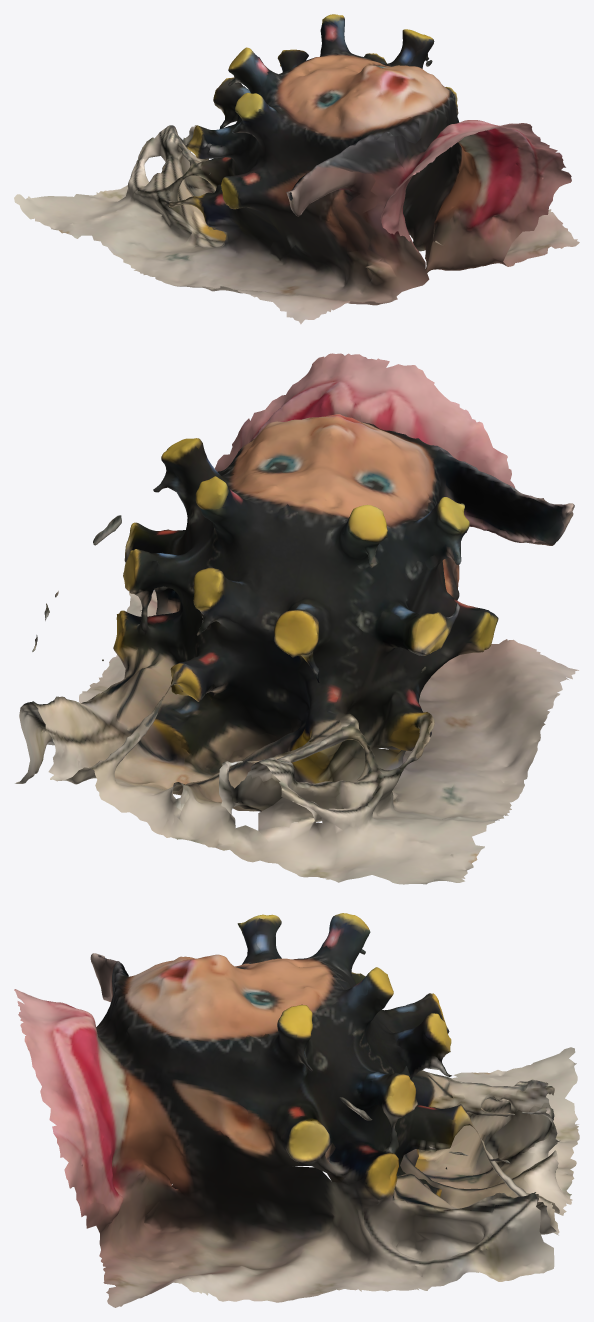
File: scan.obj
The picture shows the model from 3 angles, top to bottom: view 1: azimuth 30°, elevation 25°; view 2: azimuth 150°, elevation 25°; view 3: azimuth 270°, elevation 25°; orthographic projection. The views are drawn at different scales.
Size of the model in its own units: 222 by 111 by 214.
Materials: 1 (1 with a texture image).
